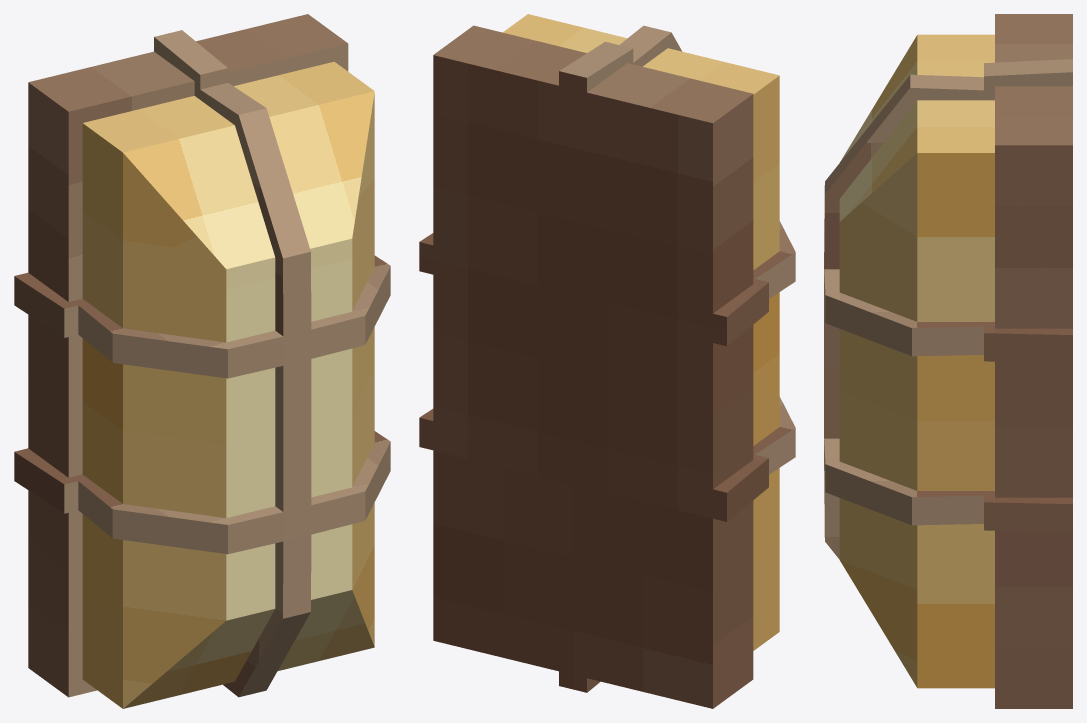
File: IndustrialWallLight.gltf
3 views of the same model, side by side, from view 1: azimuth 30°, elevation 25°; view 2: azimuth 150°, elevation 25°; view 3: azimuth 270°, elevation 25° (orthographic). The views are drawn at different scales.
Visible parts, largest first — view 1: LampGlass, LampBody; view 2: LampBody, LampGlass; view 3: LampGlass, LampBody.
Boxes of the visible parts, x1=… form: LampGlass: x1=82, y1=61, x2=374, y2=708; LampBody: x1=14, y1=14, x2=390, y2=697; LampBody: x1=419, y1=25, x2=795, y2=708; LampGlass: x1=503, y1=14, x2=779, y2=650; LampGlass: x1=839, y1=34, x2=994, y2=688; LampBody: x1=824, y1=14, x2=1072, y2=708.
Size of the model in its own units: 0.275 by 0.525 by 0.2.
Materials: 1 (1 with a texture image).
